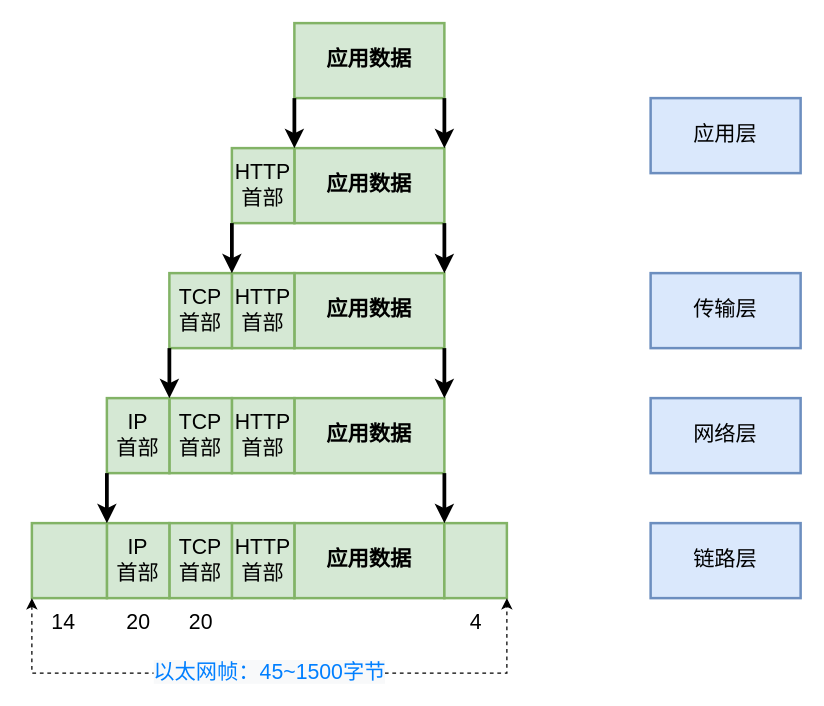
Image size: 824x706. Some labels were removed from this diagram. The shapes that lost their labels are listed below. From the top down, each one's centre as x and y in pixels, then its label:
At (x=69, y=560): "以太网 首部".
At (x=475, y=560): "CRC".
